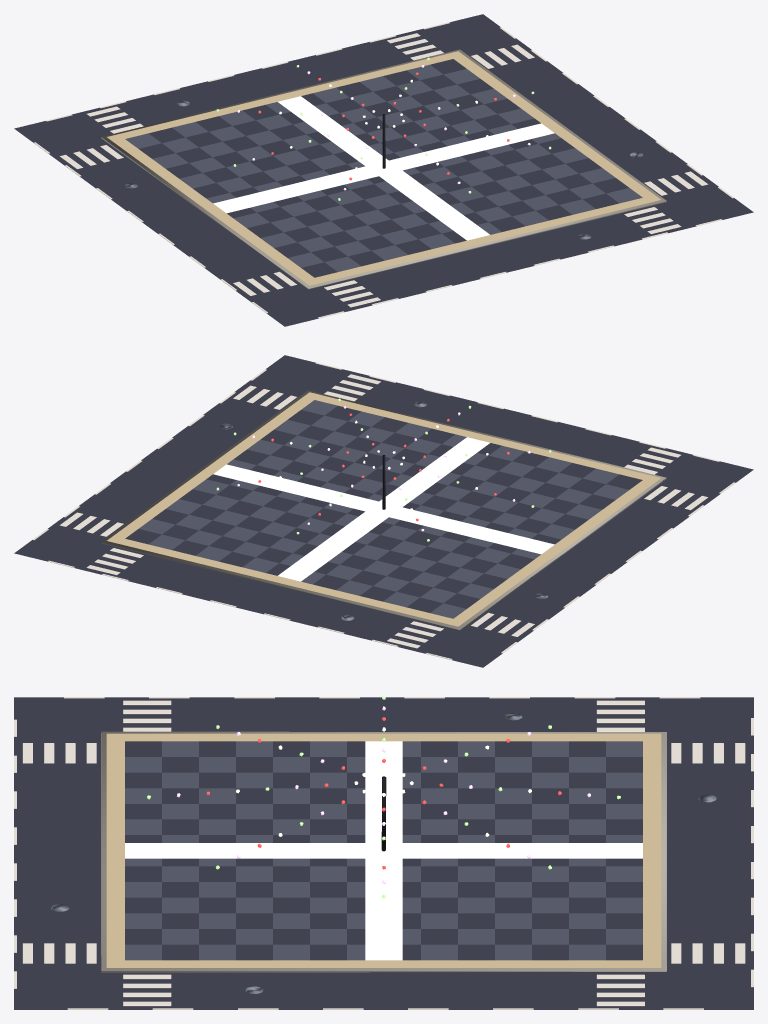
File: tile_neon.glb
The picture shows the model from 3 angles, top to bottom: view 1: azimuth 30°, elevation 25°; view 2: azimuth 150°, elevation 25°; view 3: azimuth 270°, elevation 25°; orthographic projection. The views are drawn at different scales.
Visible parts, largest first — view 1: tile_neon; view 2: tile_neon; view 3: tile_neon.
Part boxes in pixels (left/top/right/bottom): tile_neon: left=14, top=14, right=753, bottom=326; tile_neon: left=14, top=355, right=753, bottom=667; tile_neon: left=14, top=696, right=753, bottom=1009.
Bounding box in the file's own units: 40 × 4.57 × 40.
Materials: 1 (1 with a texture image).
